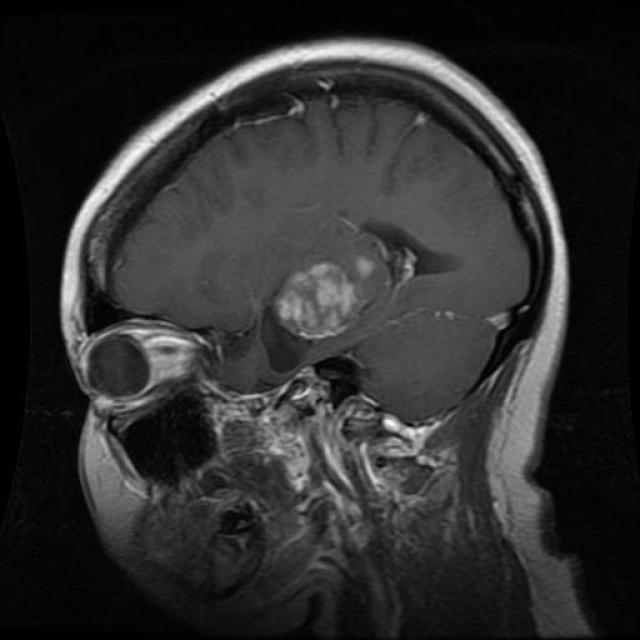glioma: (254, 262, 372, 372)
